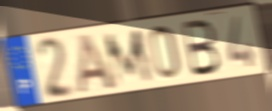0: (148, 23, 183, 82)
2: (36, 33, 76, 105)
4: (225, 14, 257, 70)
A: (77, 31, 119, 96)
B: (181, 18, 222, 79)
M: (102, 26, 156, 90)
